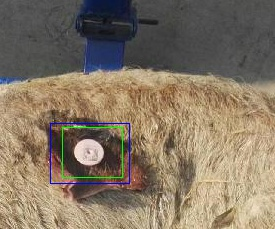text: (62, 127, 122, 177)
